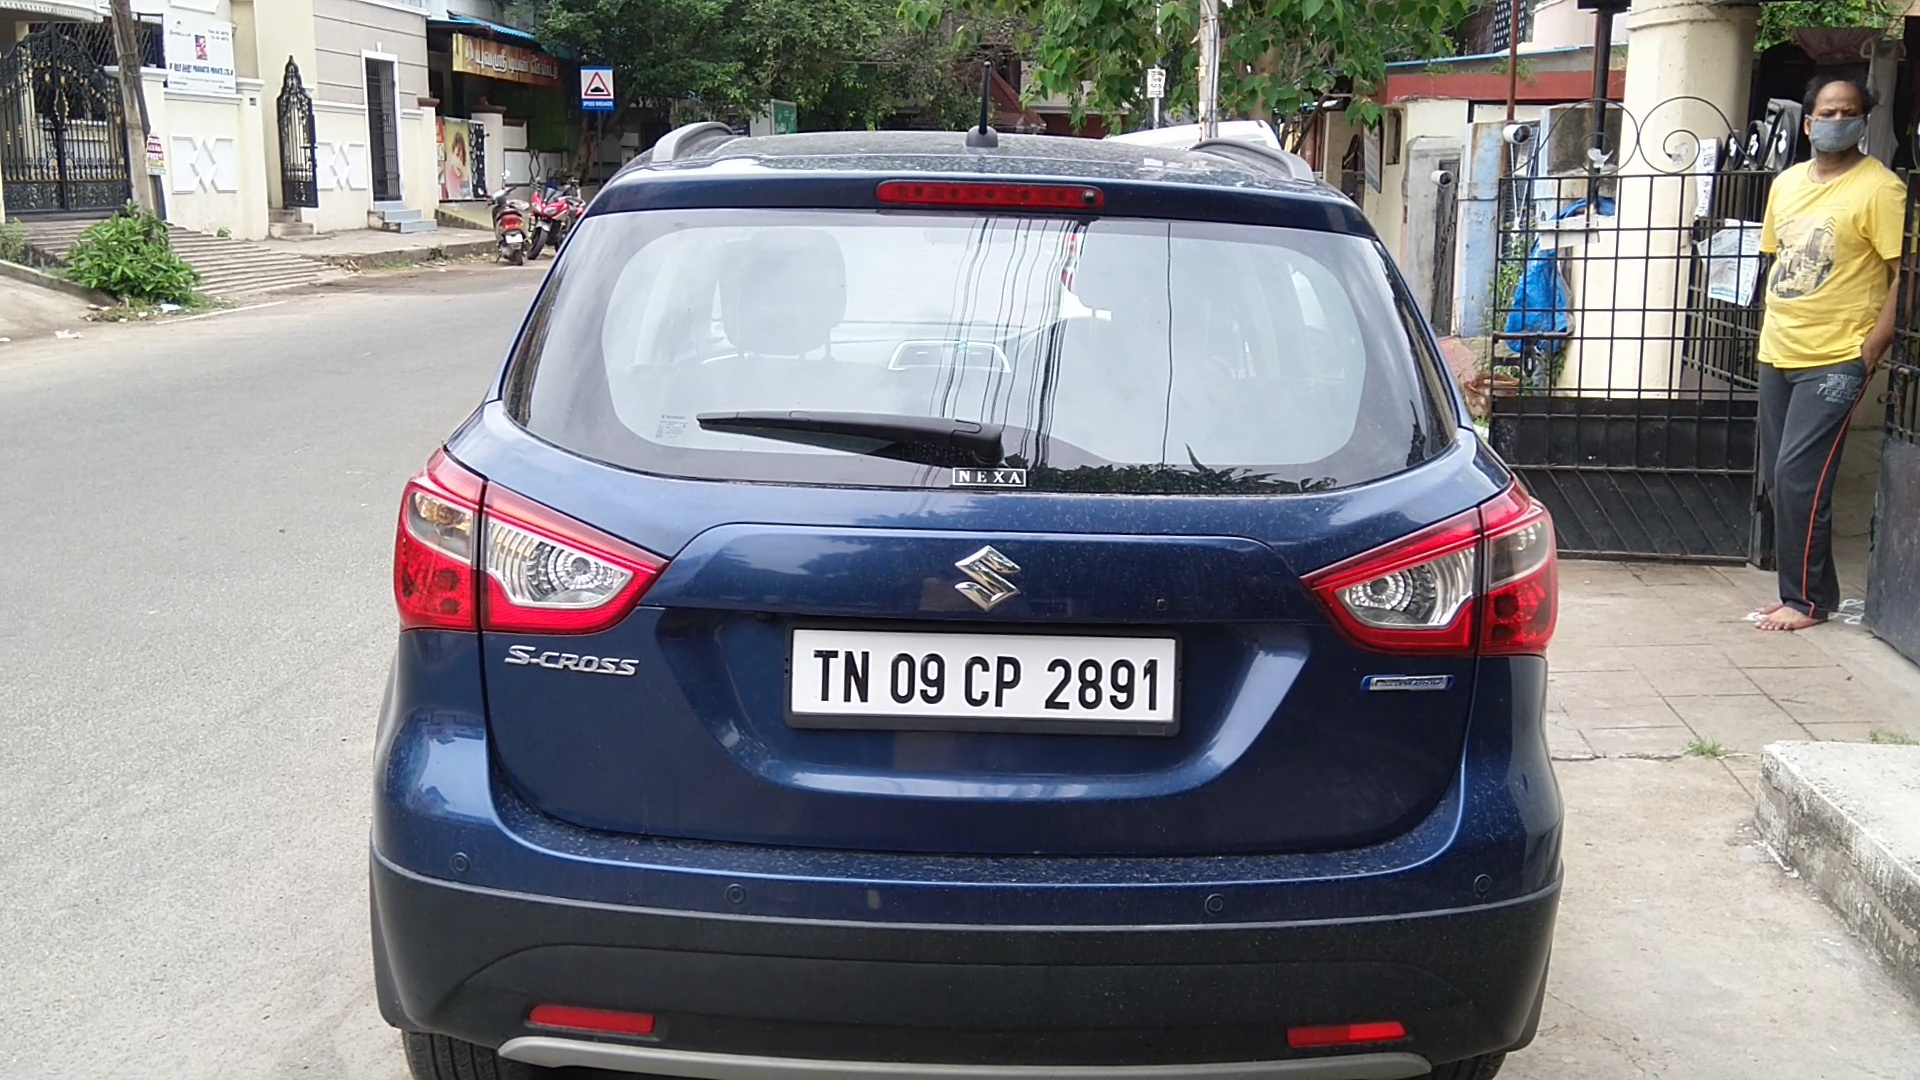rear_camera: (1073, 185, 1109, 219)
shvs: (1350, 661, 1466, 708)
